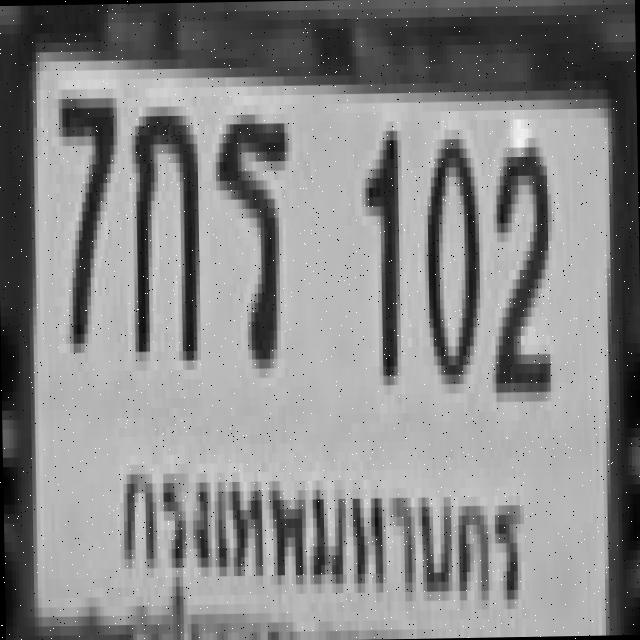0: (422, 129, 478, 374)
1: (360, 121, 398, 376)
10GorGai: (127, 96, 197, 351)
2: (486, 132, 548, 388)
44RorRuea: (211, 104, 288, 359)
7: (55, 89, 116, 344)
Bangkok: (105, 437, 534, 640)
